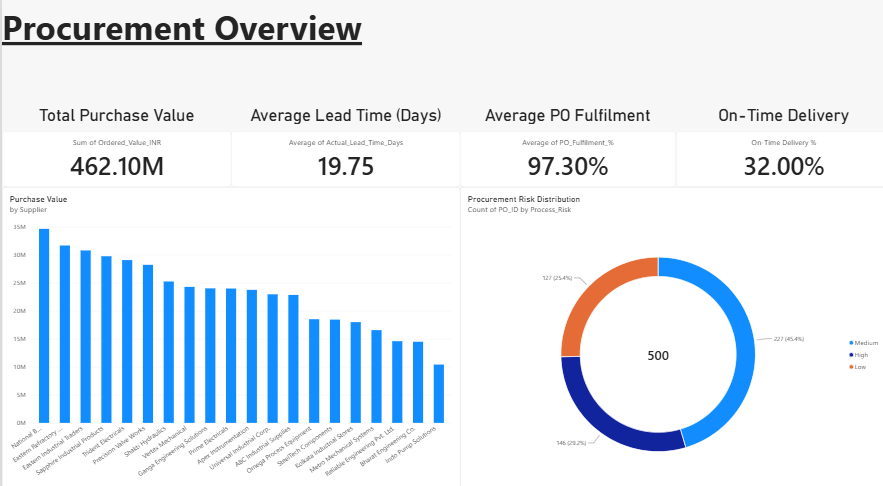

The page's visual inventory and layout, read from the dashboard file:
{"tool":"powerbi","page":{"name":"Procurement Overview","canvas":[1920,1080],"ordinal":0},"visuals":[{"type":"cardVisual","title":"Total Purchase Value","fields":{"Data":["Sum(ProcurementAnalysis.Ordered_Value_INR)"]},"box":[10.1,0,279.7,143.6],"z":0},{"type":"cardVisual","title":"Average Lead Time (Days)","fields":{"Data":["Avg(ProcurementAnalysis.Actual_Lead_Time_Days)"]},"box":[290,0,280,150],"z":1000},{"type":"cardVisual","title":"Average PO Fulfilment","fields":{"Data":["Avg(ProcurementAnalysis.PO_Fulfilment_%)"]},"box":[570,0,280,150],"z":2000},{"type":"cardVisual","title":"On-Time Delivery","fields":{"Data":["ProcurementAnalysis.On-Time Delivery %"]},"box":[850,0,280,150],"z":3000},{"type":"clusteredColumnChart","fields":{"Category":["ProcurementAnalysis.Supplier_Name"],"Y":["Sum(ProcurementAnalysis.Ordered_Value_INR)"]},"box":[0,144,728,452],"z":4000},{"type":"donutChart","title":"Procurement Risk Distribution","fields":{"Category":["ProcurementAnalysis.Process_Risk"],"Y":["CountNonNull(ProcurementAnalysis.PO_ID)"]},"box":[728,150,728,452],"z":5000}]}

Visuals, with their boxes in screenshot pixels (x1, y1, x2, y2), scaled from the page's 1920x1080 canvas onto the 883x486 screenshot:
"Total Purchase Value" cardVisual: locate(5, 0, 133, 65)
"Average Lead Time (Days)" cardVisual: locate(133, 0, 262, 68)
"Average PO Fulfilment" cardVisual: locate(262, 0, 391, 68)
"On-Time Delivery" cardVisual: locate(391, 0, 520, 68)
clusteredColumnChart - ProcurementAnalysis.Supplier_Name x Sum(ProcurementAnalysis.Ordered_Value_INR): locate(0, 65, 335, 268)
"Procurement Risk Distribution" donutChart: locate(335, 68, 670, 271)
